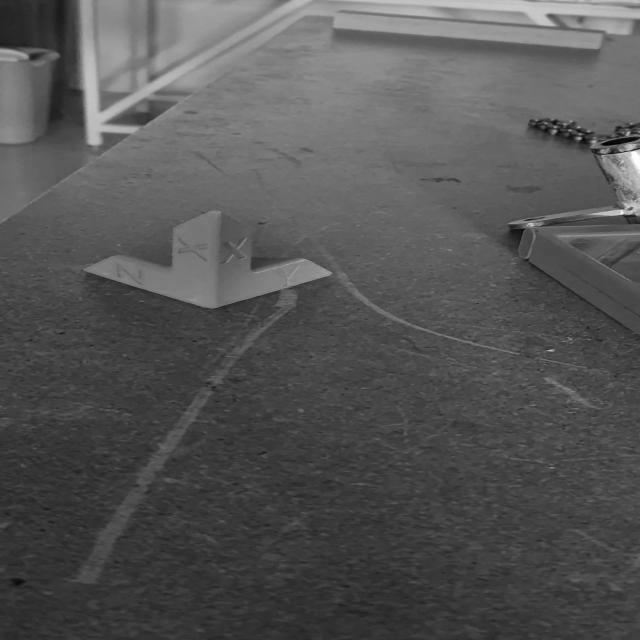eje: (80, 209, 334, 311)
